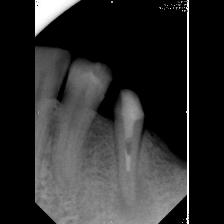apical_lesion: (107, 91, 153, 224)
